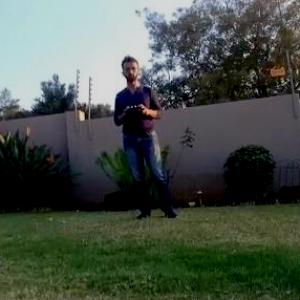follow: (111, 47, 183, 219)
